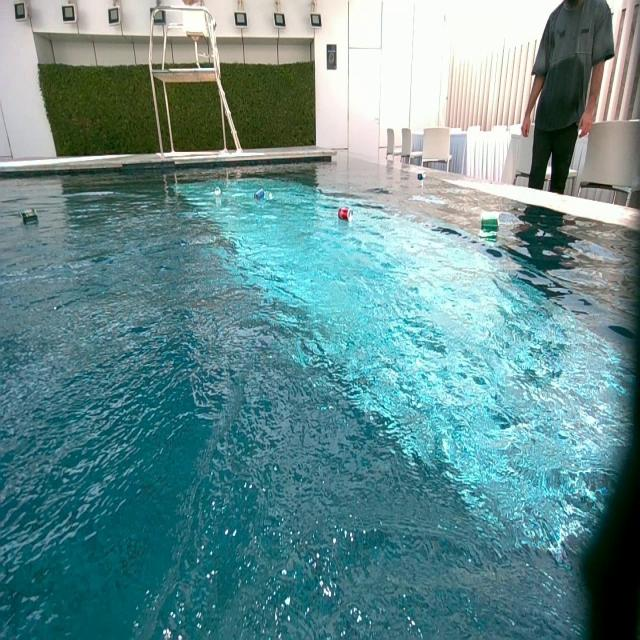Cans: (481, 212, 500, 230), (21, 208, 39, 226), (338, 208, 352, 222), (253, 188, 266, 201), (418, 172, 426, 181), (214, 186, 221, 196)
